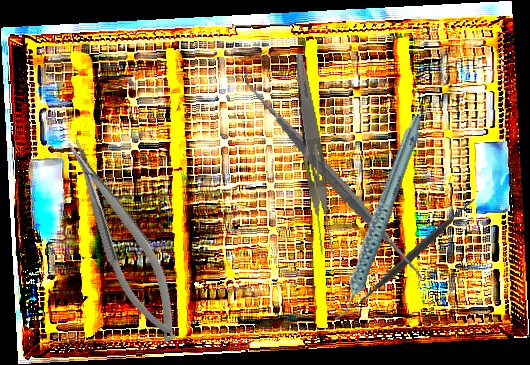Dressing Forceps: (285, 51, 339, 257)
Handpiece: (292, 113, 462, 324)
Needle Holder: (57, 128, 191, 351)
Spatula Surgical: (217, 65, 448, 290), (342, 182, 485, 325)
